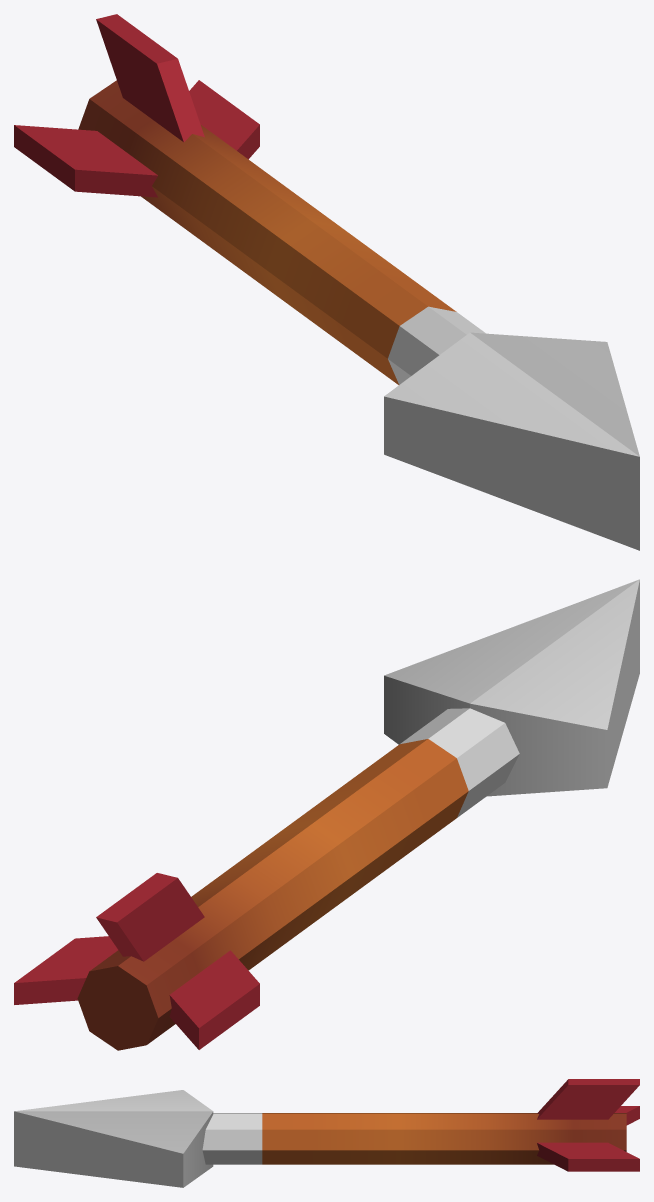
Rendered from Arrow.fbx.
3 renders of one model, top to bottom at view 1: azimuth 30°, elevation 25°; view 2: azimuth 150°, elevation 25°; view 3: azimuth 270°, elevation 25°, orthographic. The views are drawn at different scales.
Visible parts, largest first — view 1: Arrow; view 2: Arrow; view 3: Arrow.
Boxes of the visible parts, bbox=[...] form: Arrow: bbox=[14, 14, 639, 550]; Arrow: bbox=[14, 579, 639, 1050]; Arrow: bbox=[14, 1079, 639, 1187].
Bounding box in the file's own units: 15.89 × 9.77 × 65.69.
